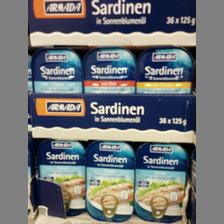Fisch: (132, 142, 188, 222), (85, 140, 133, 222), (35, 136, 85, 212), (133, 45, 193, 93), (83, 46, 137, 94), (32, 50, 84, 90)
